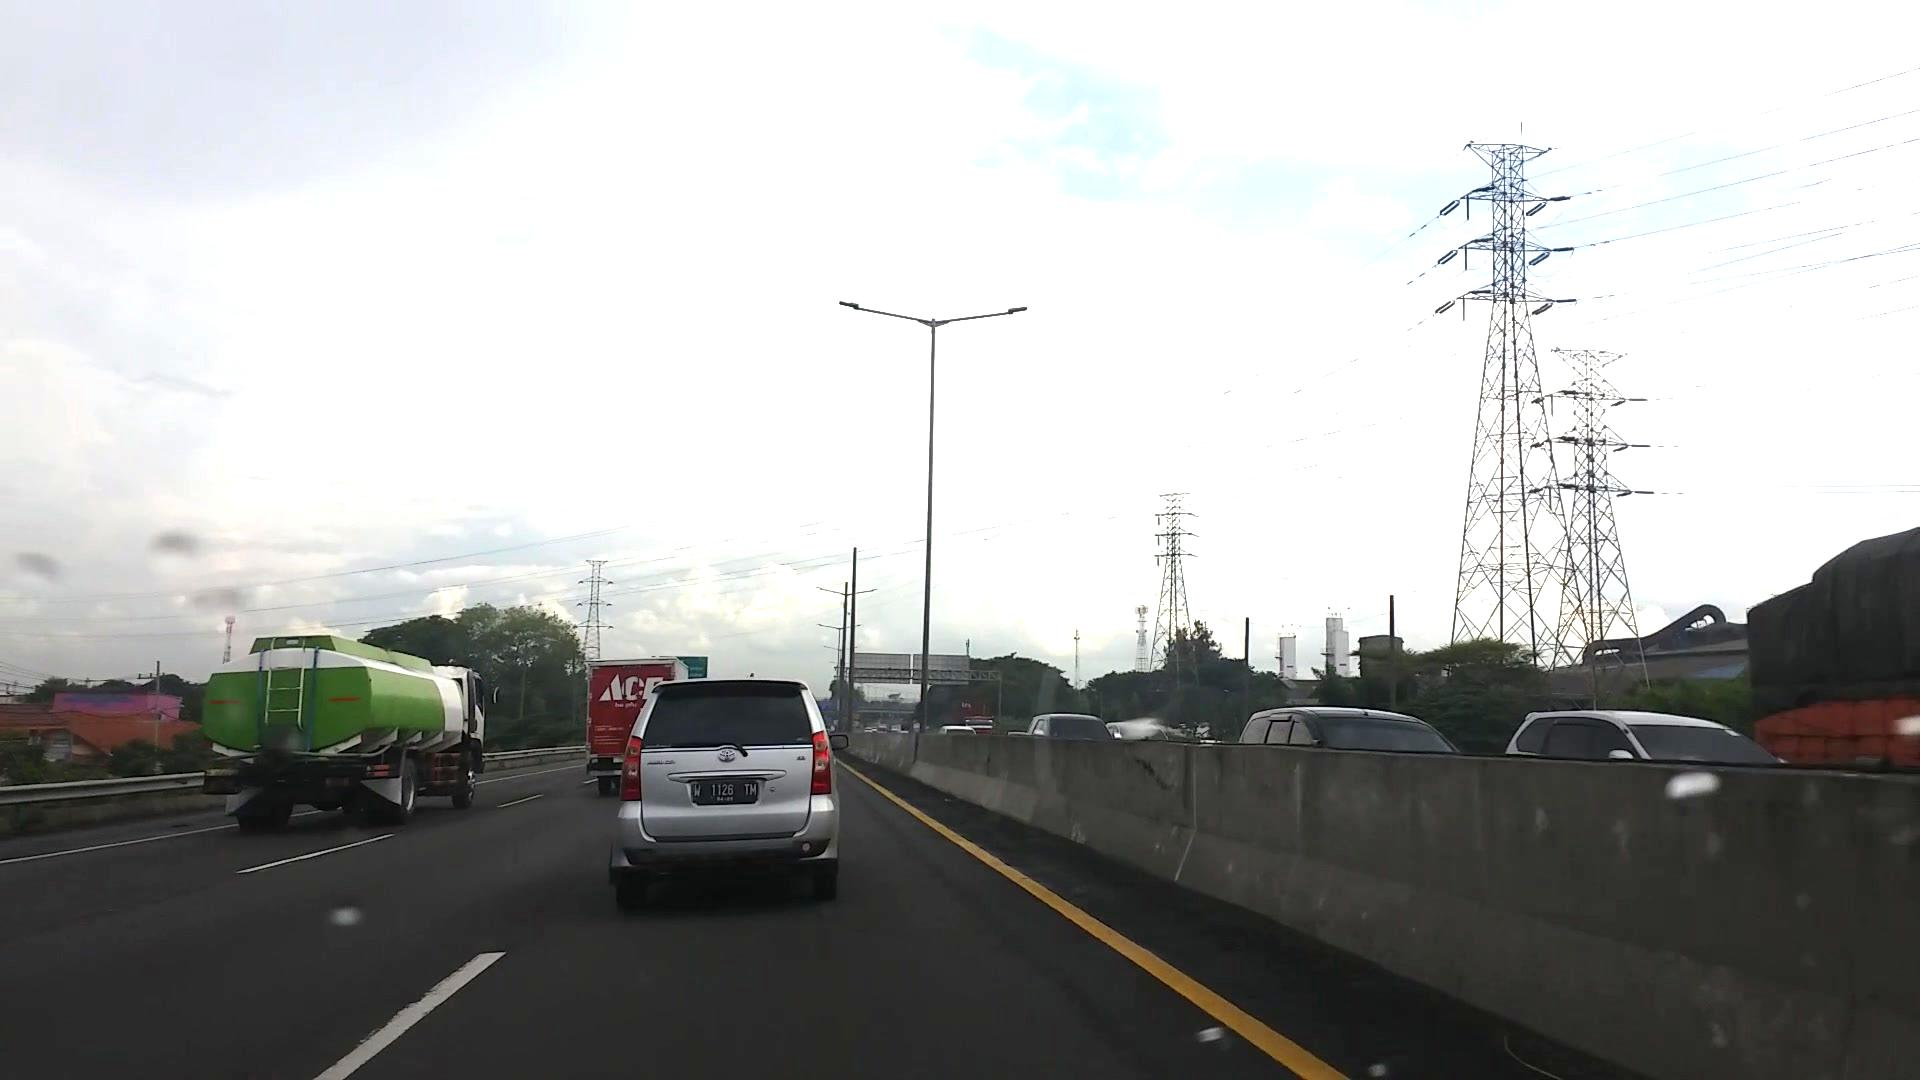plate_positive: (692, 781, 760, 804)
